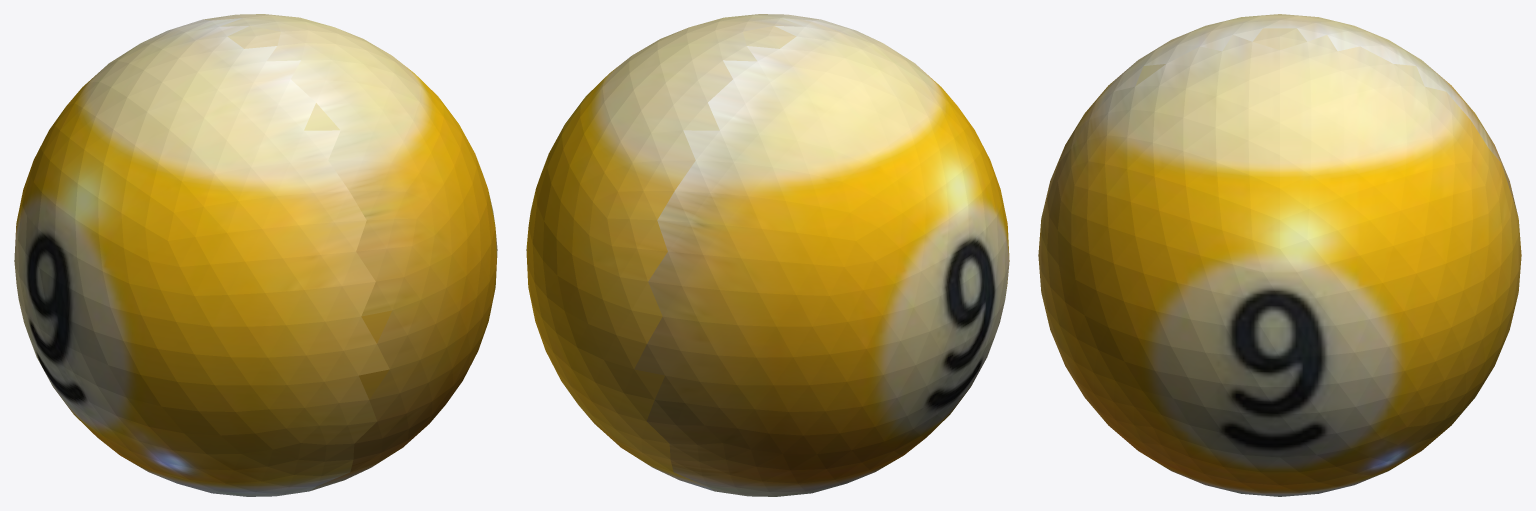
Rendered from balll_9.glb.
The picture shows the model from 3 angles, left to right: view 1: azimuth 30°, elevation 25°; view 2: azimuth 150°, elevation 25°; view 3: azimuth 270°, elevation 25°; orthographic projection.
Parts seen in each view (by area): view 1: Ball_1; view 2: Ball_1; view 3: Ball_1.
Boxes of the visible parts, bbox=[...] form: Ball_1: bbox=[14, 14, 497, 496]; Ball_1: bbox=[526, 14, 1009, 496]; Ball_1: bbox=[1038, 14, 1521, 496].
Bounding box in the file's own units: 2 × 2 × 2.
1 material, 1 textured.
